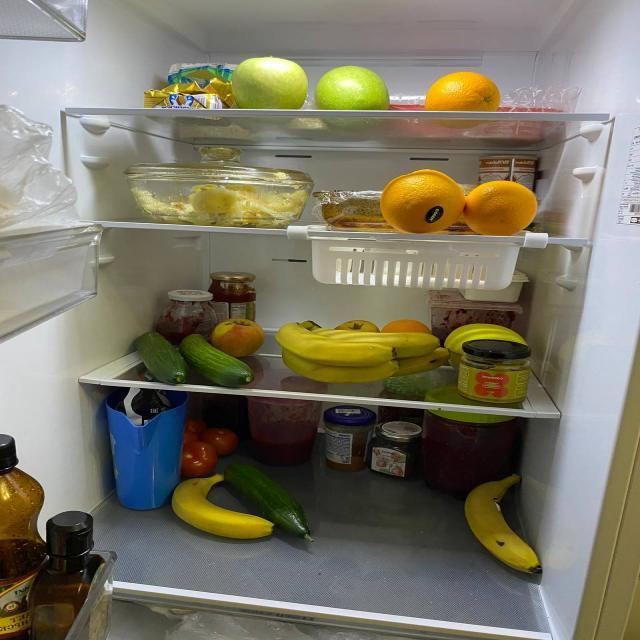Apple: (316, 63, 391, 129), (230, 56, 308, 118), (203, 317, 265, 354), (326, 317, 382, 337)
Banana: (266, 318, 448, 382), (466, 468, 544, 587), (171, 473, 273, 541)
Cucumber: (220, 441, 318, 534), (183, 332, 257, 385), (136, 329, 186, 385)
Orange: (378, 167, 462, 235), (420, 69, 504, 129), (461, 181, 543, 235), (374, 314, 428, 337)
